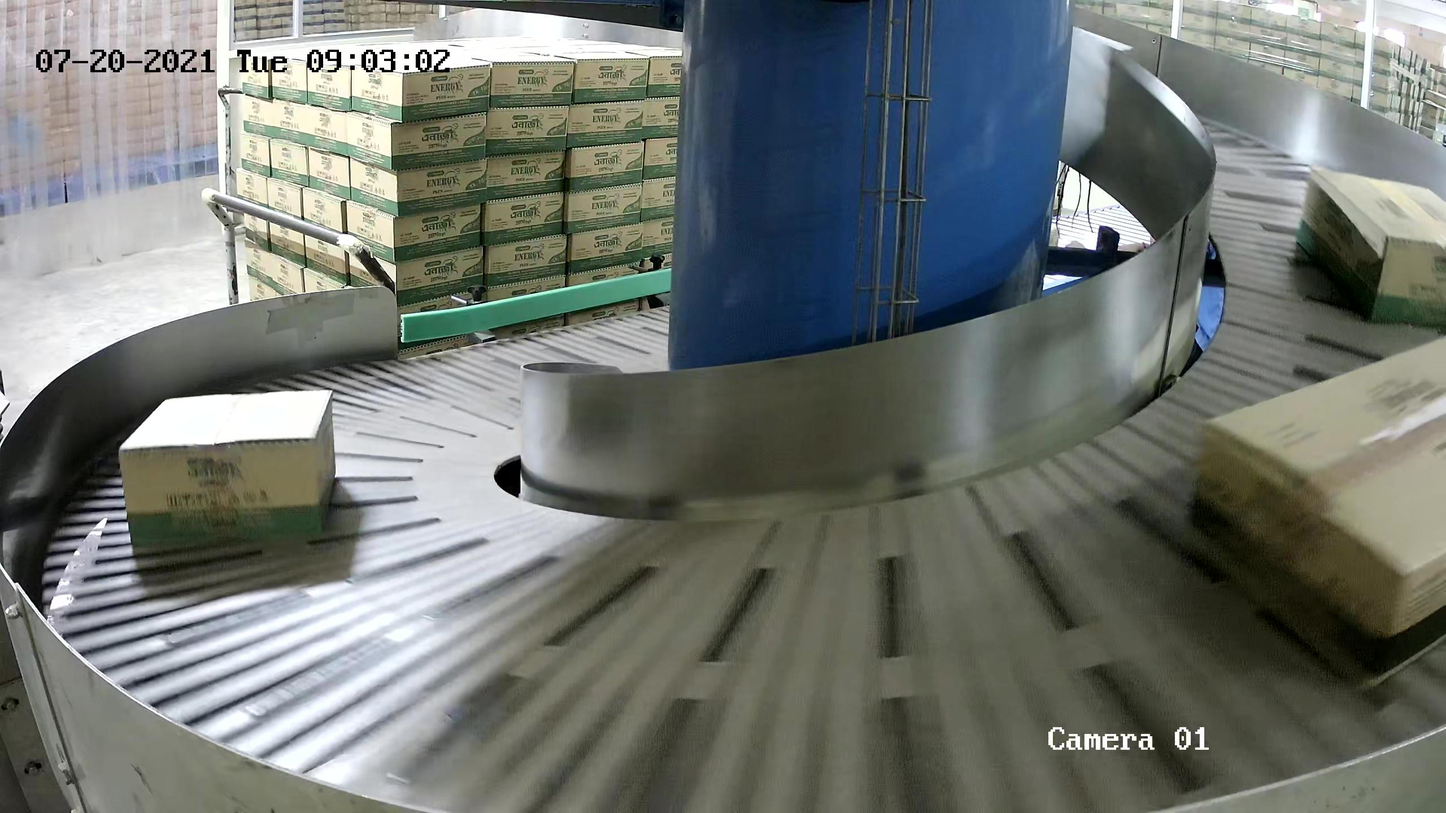Box: (1189, 331, 1446, 695), (117, 388, 337, 547), (1295, 164, 1446, 326)
